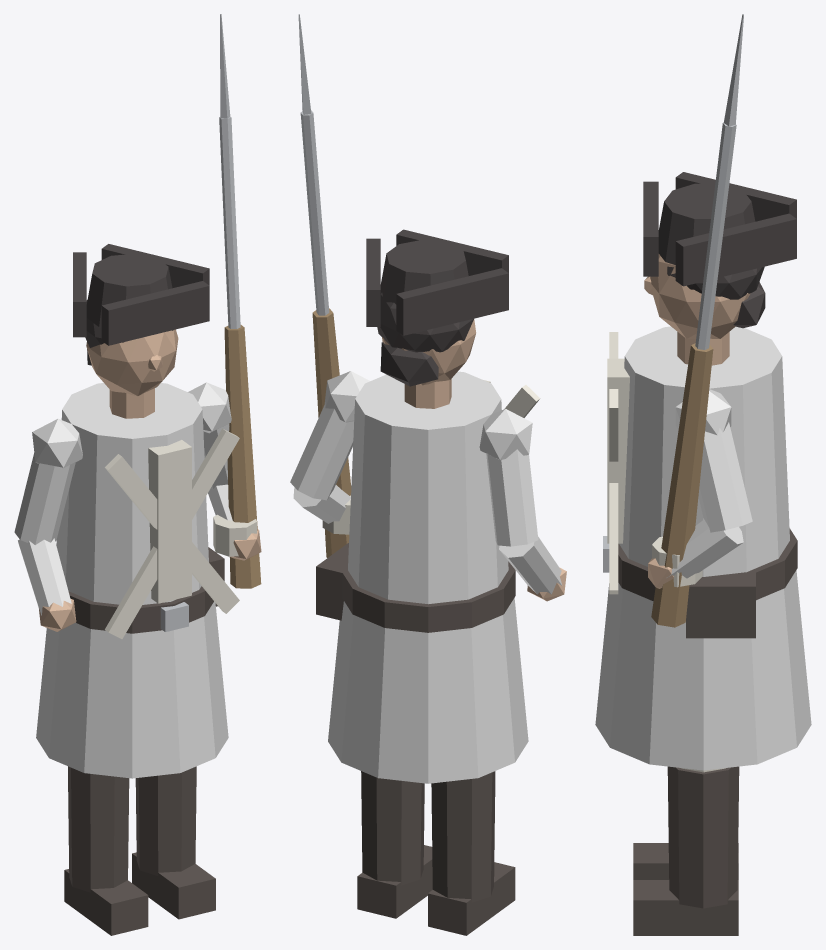
The model's file is civ_unit_musketman.glb.
3 views of the same model, side by side, from view 1: azimuth 30°, elevation 25°; view 2: azimuth 150°, elevation 25°; view 3: azimuth 270°, elevation 25° (orthographic). The views are drawn at different scales.
Visible parts, largest first — view 1: civ_unit_musketman; view 2: civ_unit_musketman; view 3: civ_unit_musketman.
Boxes of the visible parts, x1,y1,x2,y2 form: civ_unit_musketman: [14, 14, 261, 935]; civ_unit_musketman: [290, 14, 566, 935]; civ_unit_musketman: [595, 14, 811, 935].
Bounding box in the file's own units: 0.6812 × 2.4 × 0.494.
